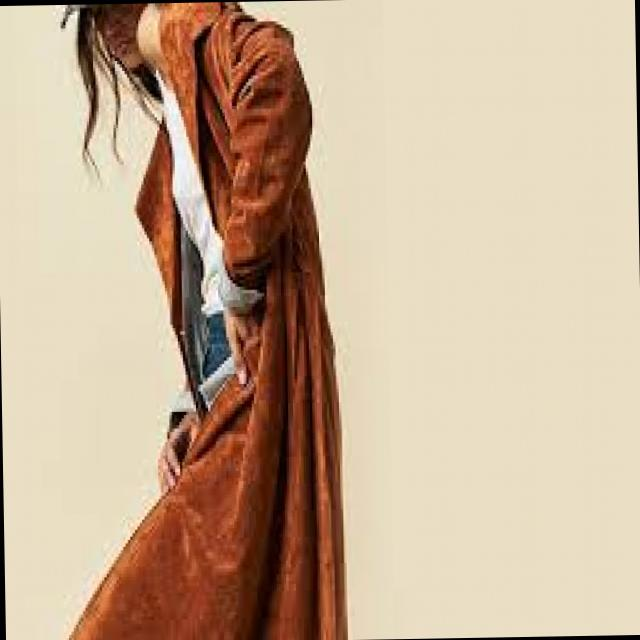Jacket: (113, 53, 433, 640)
